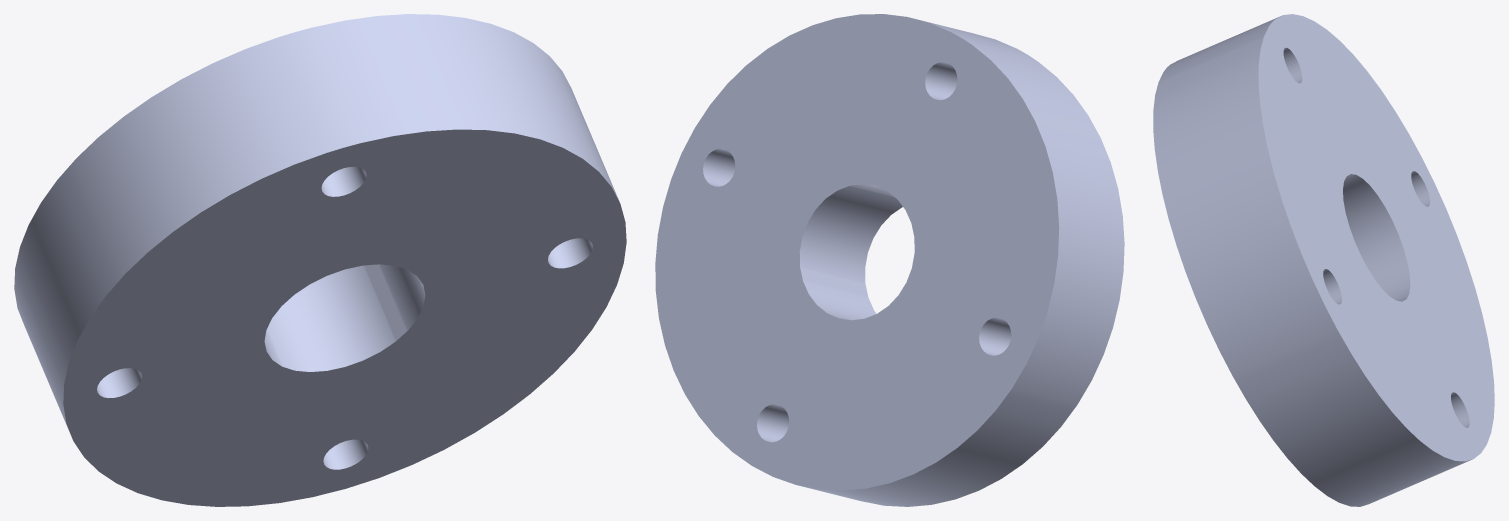
File: c_3_robot_export_clean__rx28_disc_1.dae
The picture shows the model from 3 angles, left to right: view 1: azimuth 30°, elevation 25°; view 2: azimuth 150°, elevation 25°; view 3: azimuth 270°, elevation 25°; orthographic projection. The views are drawn at different scales.
Parts seen in each view (by area): view 1: node0; view 2: node0; view 3: node0.
Part boxes in pixels (bbox=[...]): node0: bbox=[14, 14, 626, 506]; node0: bbox=[655, 14, 1124, 506]; node0: bbox=[1153, 14, 1494, 506].
Bounding box in the file's own units: 0.0205 × 0.02 × 0.0141.
